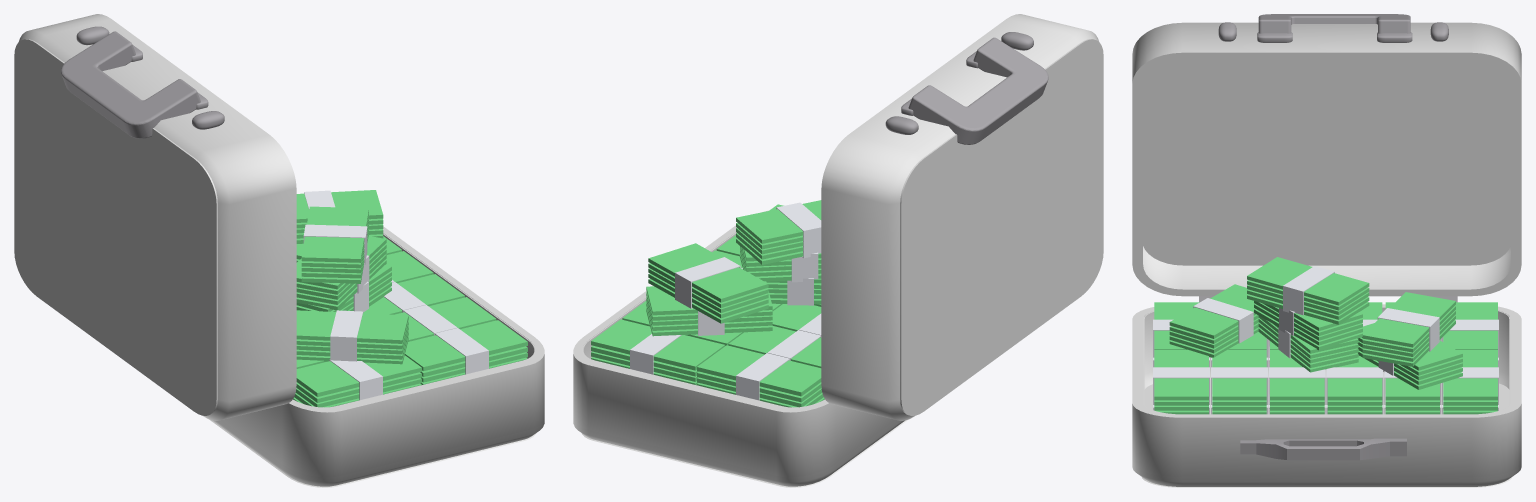
File: briefcase (2).fbx
3 renders of one model, left to right at view 1: azimuth 30°, elevation 25°; view 2: azimuth 150°, elevation 25°; view 3: azimuth 270°, elevation 25°, orthographic. The views are drawn at different scales.
Parts seen in each view (by area): view 1: Cube.001, Cube.123, Cube.068, Cube.002, Cube.071, Cube.072, Cube.003, Cube.086, Cube.075, Cube.070, Cube.077, Cube.004 (+3 smaller); view 2: Cube.001, Cube.123, Cube.068, Cube.002, Cube.004, Cube.096, Cube.083, Cube.003, Cube.085, Cube.094, Cube.070, Cube.069 (+3 smaller); view 3: Cube.123, Cube.068, Cube.001, Cube.003, Cube.004, Cube.071, Cube.075, Cube.072, Cube.110, Cube.083, Cube.077, Cube.079 (+10 smaller).
Part boxes in pixels (bbox=[...]): Cube.001: bbox=[15, 41, 215, 414]; Cube.123: bbox=[14, 14, 296, 420]; Cube.068: bbox=[209, 226, 544, 487]; Cube.002: bbox=[61, 31, 200, 138]; Cube.071: bbox=[296, 310, 408, 364]; Cube.072: bbox=[405, 320, 527, 384]; Cube.003: bbox=[301, 206, 368, 283]; Cube.086: bbox=[293, 355, 421, 407]; Cube.075: bbox=[395, 297, 496, 341]; Cube.070: bbox=[296, 236, 386, 310]; Cube.077: bbox=[363, 274, 464, 314]; Cube.004: bbox=[296, 190, 383, 243]; Cube.001: bbox=[902, 41, 1102, 414]; Cube.123: bbox=[821, 14, 1103, 420]; Cube.068: bbox=[573, 210, 908, 487]; Cube.002: bbox=[908, 37, 1048, 144]; Cube.004: bbox=[648, 243, 768, 323]; Cube.096: bbox=[697, 345, 824, 407]; Cube.083: bbox=[591, 319, 725, 385]; Cube.003: bbox=[736, 200, 821, 264]; Cube.085: bbox=[646, 281, 772, 336]; Cube.094: bbox=[728, 325, 821, 367]; Cube.070: bbox=[740, 246, 821, 282]; Cube.069: bbox=[742, 268, 821, 305]; Cube.123: bbox=[1132, 22, 1521, 296]; Cube.068: bbox=[1132, 304, 1521, 487]; Cube.001: bbox=[1132, 52, 1521, 296]; Cube.003: bbox=[1247, 257, 1369, 324]; Cube.004: bbox=[1362, 292, 1455, 366]; Cube.071: bbox=[1169, 284, 1259, 357]; Cube.075: bbox=[1211, 349, 1267, 414]; Cube.072: bbox=[1153, 349, 1209, 414]; Cube.110: bbox=[1240, 438, 1406, 460]; Cube.083: bbox=[1442, 349, 1498, 414]; Cube.077: bbox=[1268, 349, 1325, 414]; Cube.079: bbox=[1326, 355, 1383, 414].
Size of the model in its own units: 2563 by 2386 by 2493.
